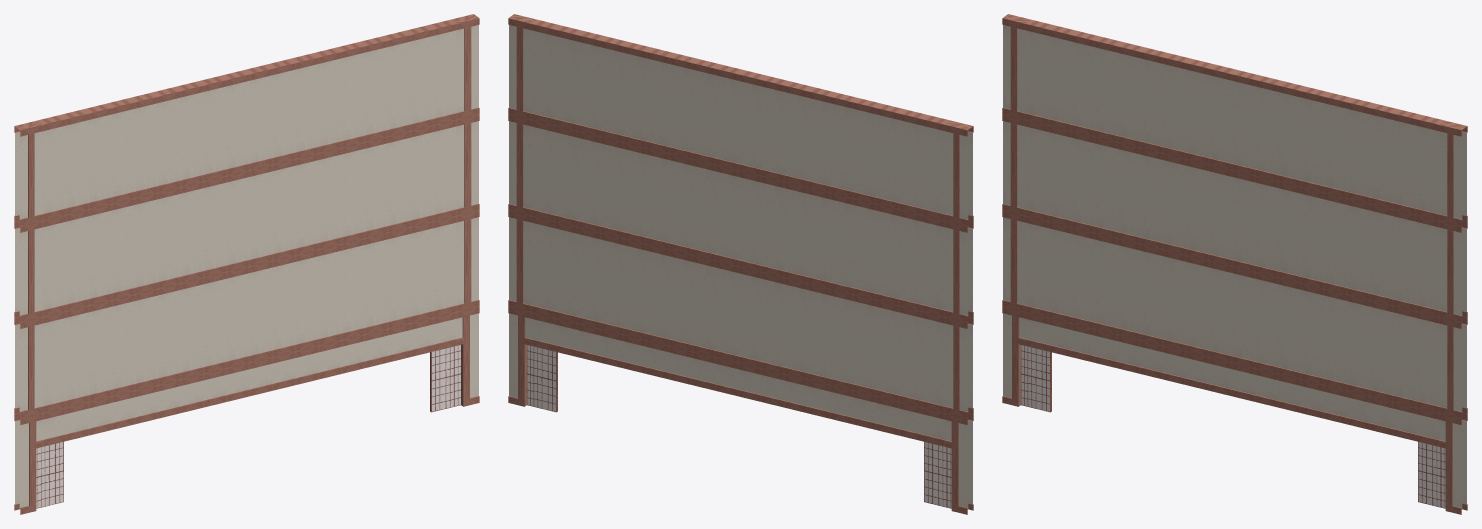
Rendered from Nuevo_pared_puerta.fbx.
3 renders of one model, left to right at view 1: azimuth 30°, elevation 25°; view 2: azimuth 150°, elevation 25°; view 3: azimuth 330°, elevation 25°, orthographic.
Parts seen in each view (by area): view 1: Pared_Base.004; view 2: Pared_Base.004; view 3: Pared_Base.004.
Part boxes in pixels (bbox=[...]): Pared_Base.004: bbox=[14, 14, 479, 514]; Pared_Base.004: bbox=[508, 14, 973, 514]; Pared_Base.004: bbox=[1002, 14, 1467, 514].
Bounding box in the file's own units: 2000 × 1600 × 44.
1 material, 1 textured.
